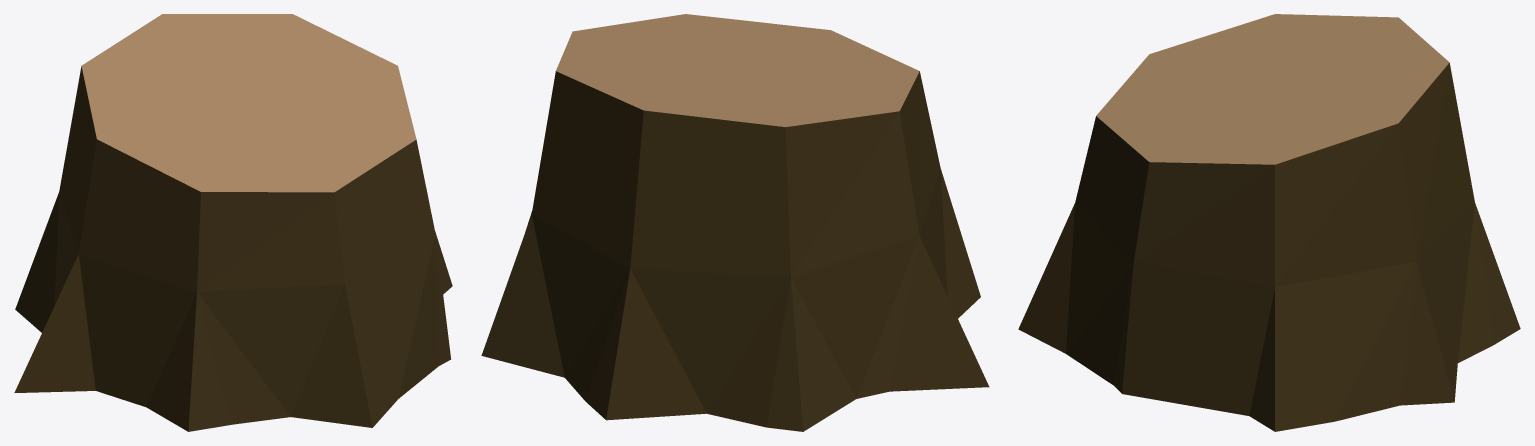
Rendered from 그루터기.fbx.
3 views of the same model, side by side, from view 1: azimuth 30°, elevation 25°; view 2: azimuth 150°, elevation 25°; view 3: azimuth 270°, elevation 25° (orthographic). The views are drawn at different scales.
Visible parts, largest first — view 1: Object; view 2: Object; view 3: Object.
Boxes of the visible parts, <box> form: Object: <box>14,14,452,431</box>; Object: <box>481,14,989,431</box>; Object: <box>1018,14,1520,431</box>.
Size of the model in its own units: 69.04 by 39.14 by 66.76.
